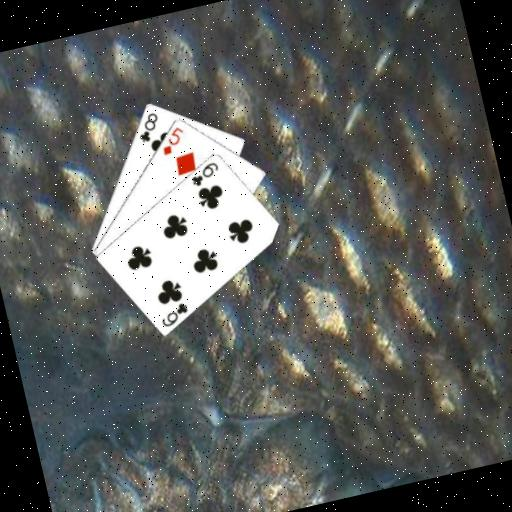5D: (155, 122, 190, 158)
6C: (186, 158, 224, 190), (156, 298, 193, 329)
8C: (131, 108, 164, 145)
